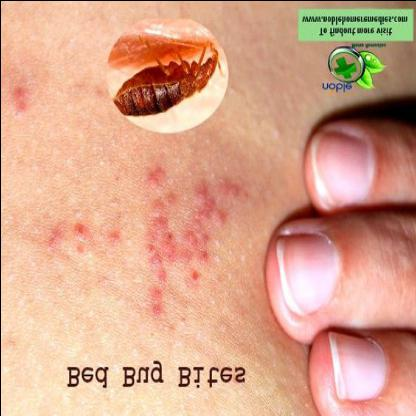Bed Bug: (140, 154, 244, 320), (37, 209, 123, 263), (6, 85, 32, 121)
